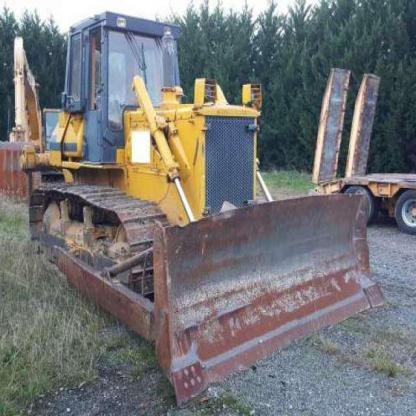bull_dozer/loader/grader: (18, 7, 388, 404)
